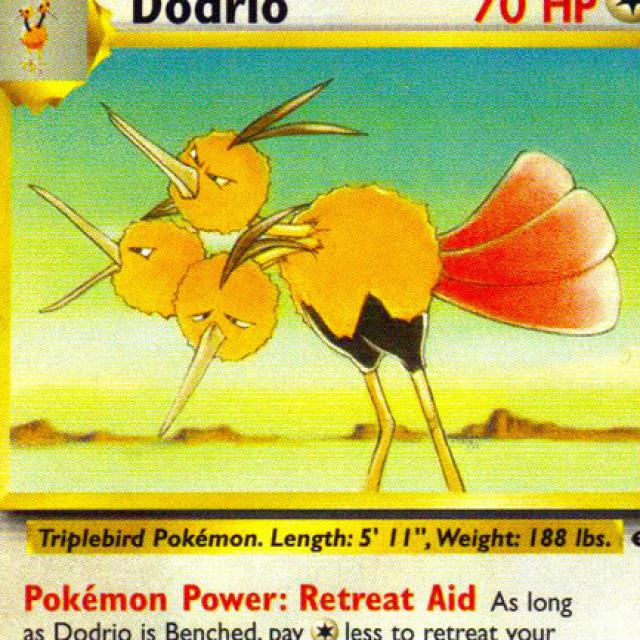Dodrio: (91, 102, 496, 463)
